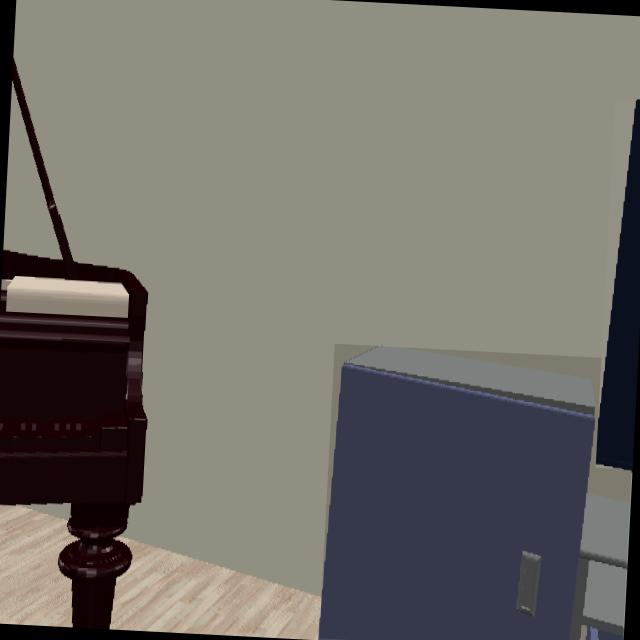cabinet: (322, 347, 631, 640)
monitor: (596, 101, 640, 469)
